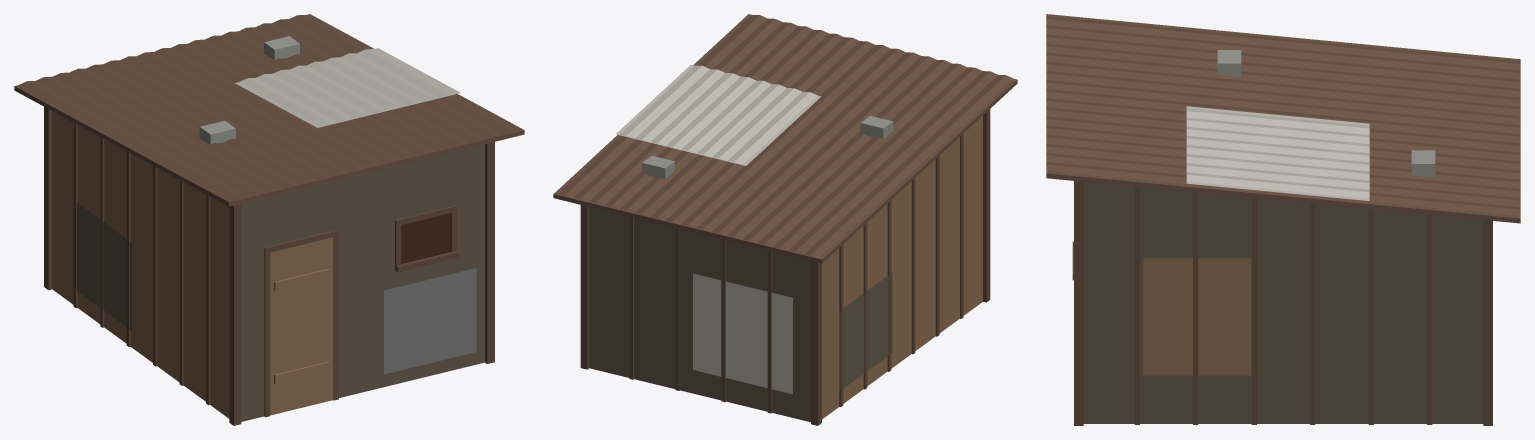
The model's file is fill1_close.fbx.
3 renders of one model, left to right at view 1: azimuth 30°, elevation 25°; view 2: azimuth 150°, elevation 25°; view 3: azimuth 270°, elevation 25°, orthographic. The views are drawn at different scales.
Visible parts, largest first — view 1: a2014/0/fill1_close; view 2: a2014/0/fill1_close; view 3: a2014/0/fill1_close.
Boxes of the visible parts, x1=… form: a2014/0/fill1_close: x1=14, y1=14, x2=524, y2=425; a2014/0/fill1_close: x1=553, y1=14, x2=1017, y2=425; a2014/0/fill1_close: x1=1046, y1=14, x2=1520, y2=425.
Bounding box in the file's own units: 3.5 × 2.7 × 4.4.
